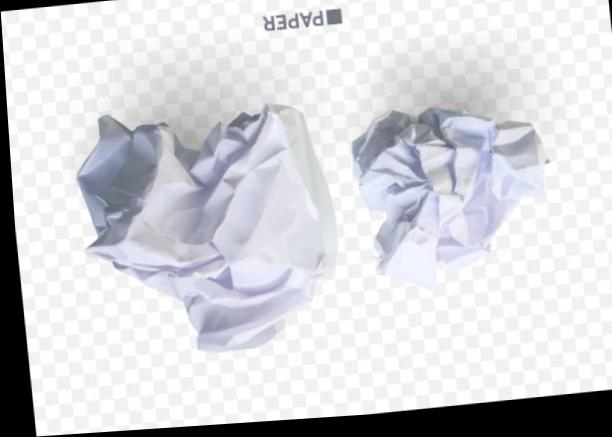paper: (53, 57, 350, 380), (333, 70, 579, 302)
